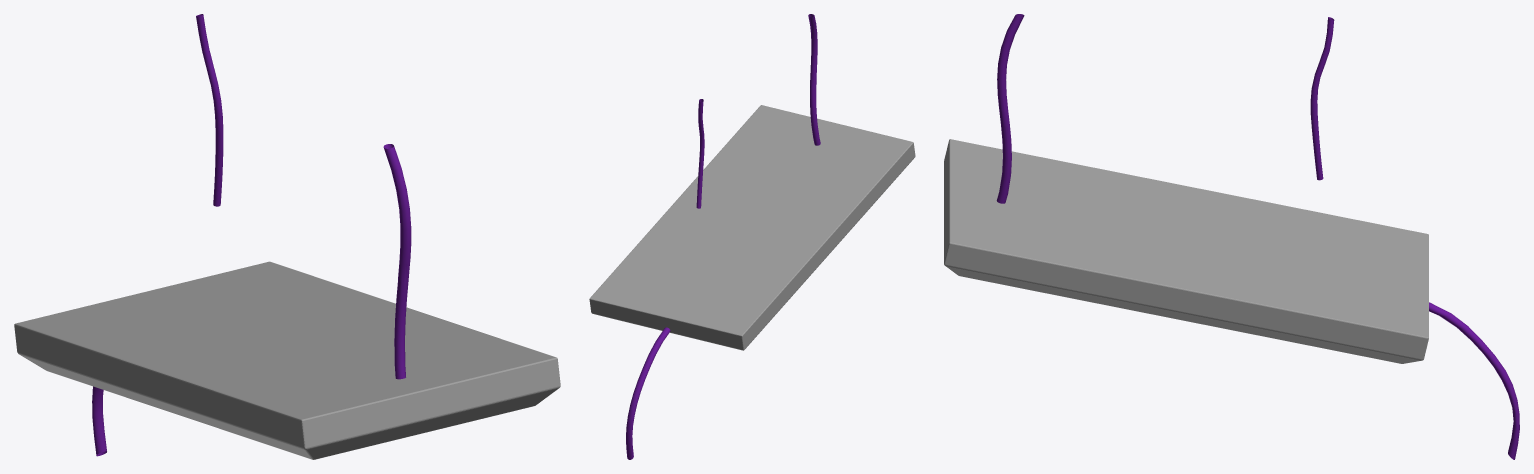
File: BrokenPanelLight.fbx
3 renders of one model, left to right at view 1: azimuth 30°, elevation 25°; view 2: azimuth 150°, elevation 25°; view 3: azimuth 270°, elevation 25°, orthographic. The views are drawn at different scales.
Parts seen in each view (by area): view 1: PanelLight Broken; view 2: PanelLight Broken; view 3: PanelLight Broken.
Part boxes in pixels (x1,y1,x2,y2): PanelLight Broken: (14, 14, 560, 459); PanelLight Broken: (589, 14, 915, 459); PanelLight Broken: (944, 14, 1519, 459).
Bounding box in the file's own units: 40.06 × 79.05 × 93.51.
